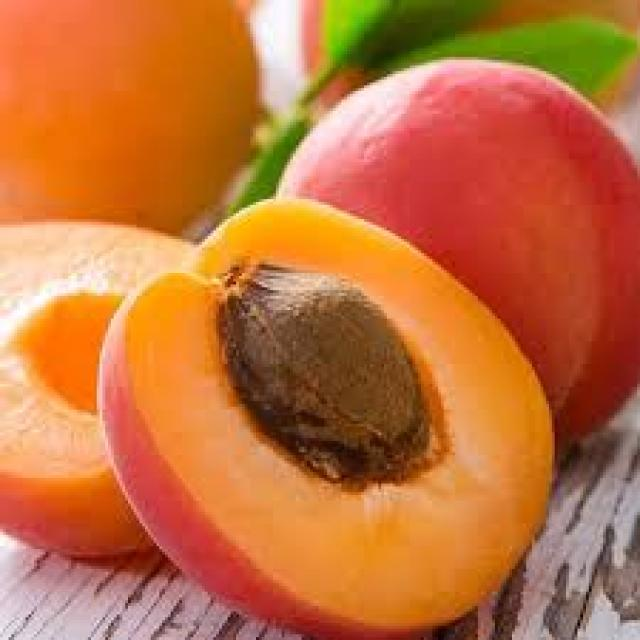kayisi: (0, 0, 640, 640)
kayisi_cekirdegi: (198, 266, 444, 484)
kayisi_yapragi: (238, 0, 640, 111)
